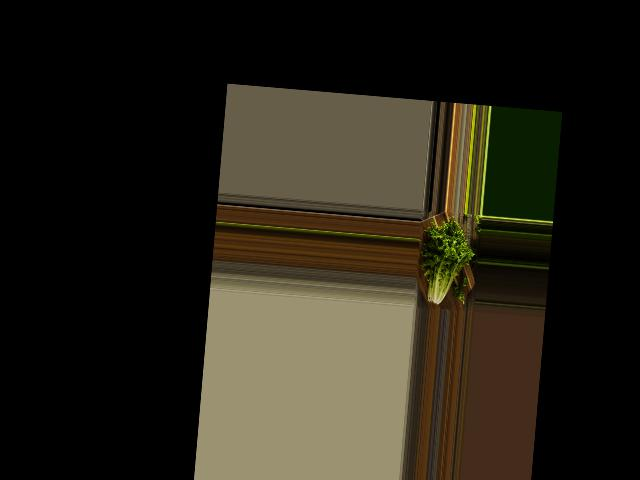lettuce: (416, 218, 475, 311)
